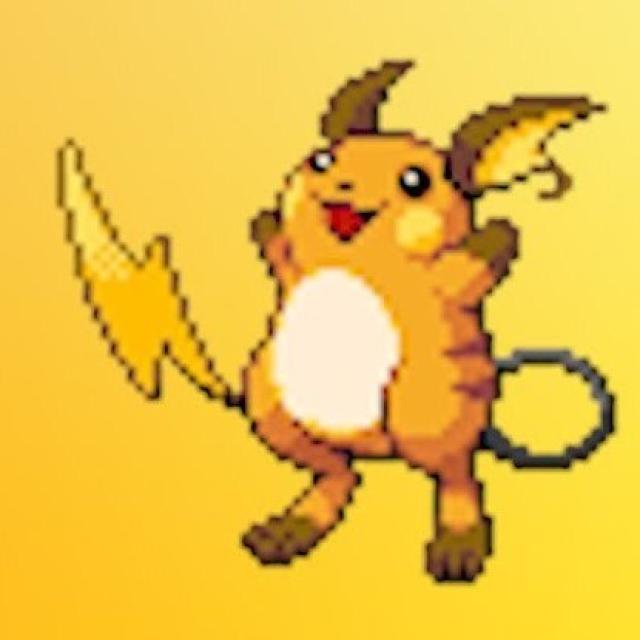Raichu: (228, 64, 580, 592)
